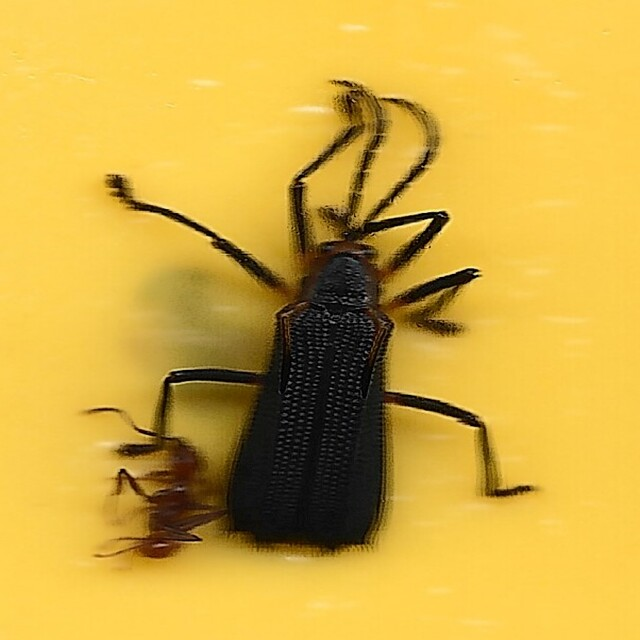Coleoptera: (106, 78, 534, 558)
Hymenoptera: (106, 432, 226, 562)
